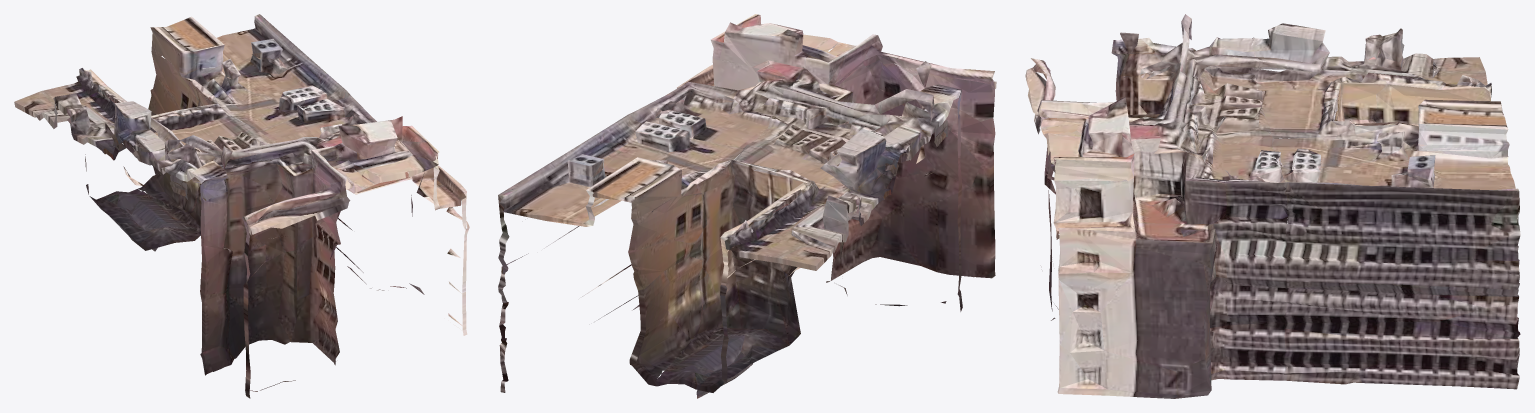
3 views of the same model, side by side, from view 1: azimuth 30°, elevation 25°; view 2: azimuth 150°, elevation 25°; view 3: azimuth 270°, elevation 25° (orthographic). The views are drawn at different scales.
Parts seen in each view (by area): view 1: Mesh_0; view 2: Mesh_0; view 3: Mesh_0.
Boxes of the visible parts, x1,y1,x2,y2 form: Mesh_0: (14,14,469,398); Mesh_0: (498,14,996,398); Mesh_0: (1025,14,1520,398).
Size of the model in its own units: 30.94 by 22.69 by 41.34.
Materials: 1 (1 with a texture image).
